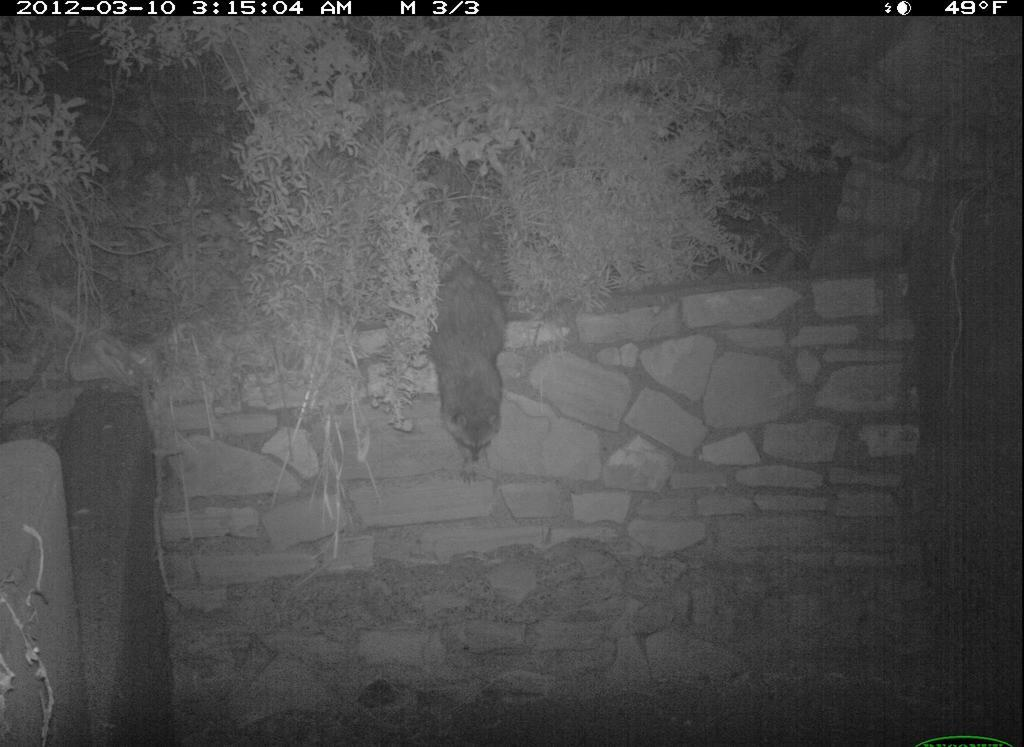raccoon: (423, 242, 538, 495)
